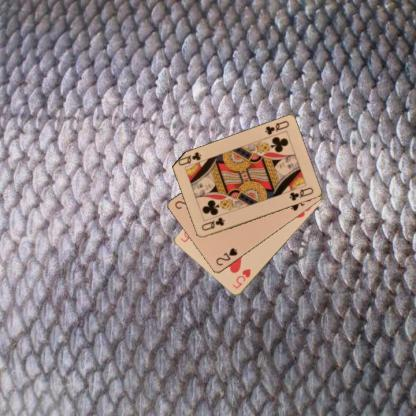2s: (213, 245, 239, 267)
5h: (230, 266, 252, 290)
Qc: (262, 119, 290, 136), (199, 215, 226, 232)
